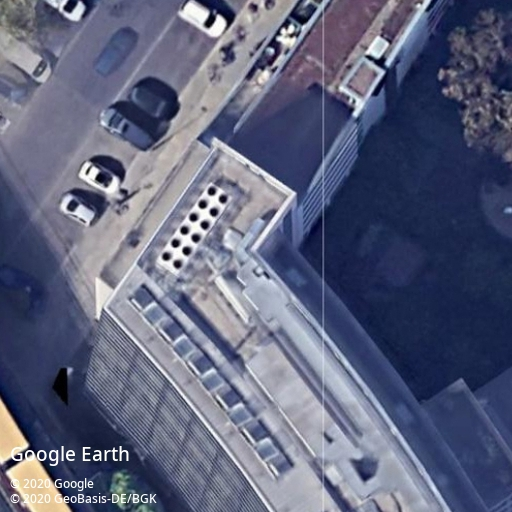Chiller: (154, 181, 233, 278)
